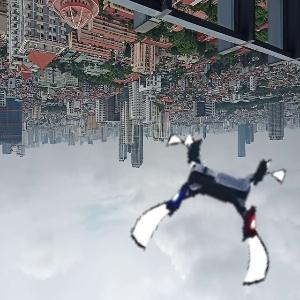drone: (143, 138, 290, 285)
